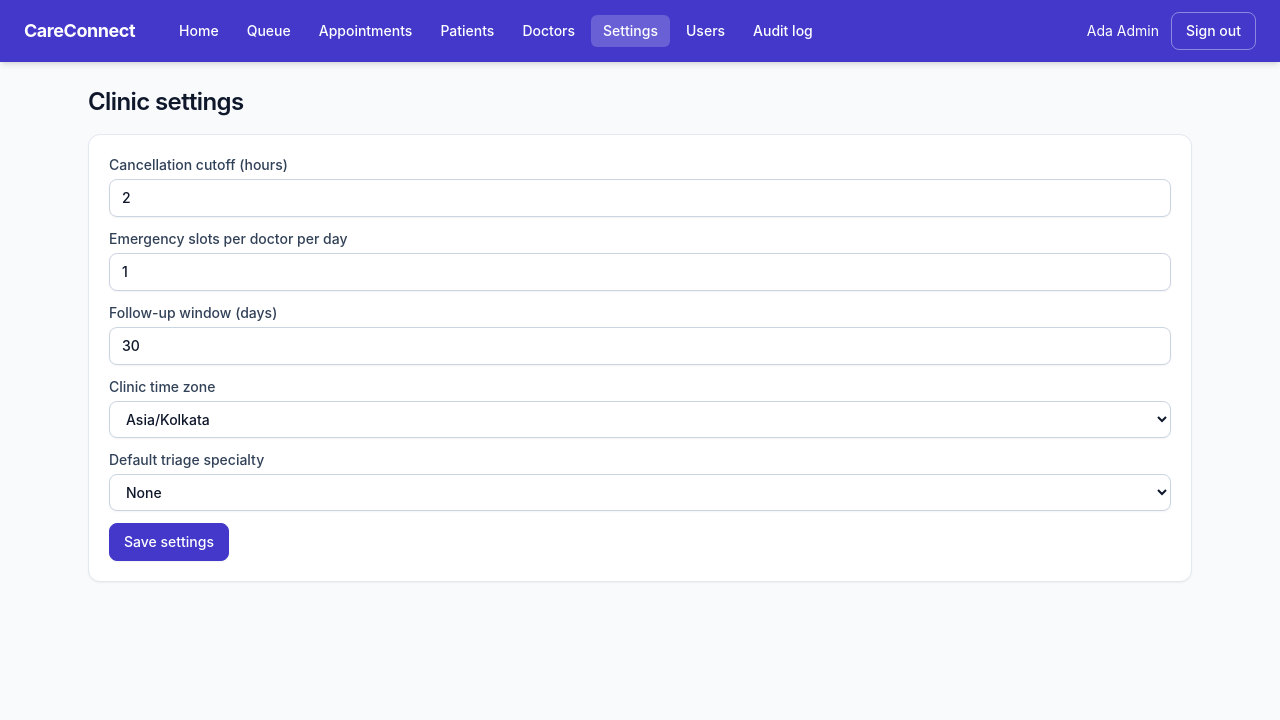
Test: Clinic settings page › front-desk saves only the changed fields
Replace the text in the number field labelled "Follow-up window (days)" with "14" at (640, 346), box x1=109 y1=327 x2=1171 y2=365
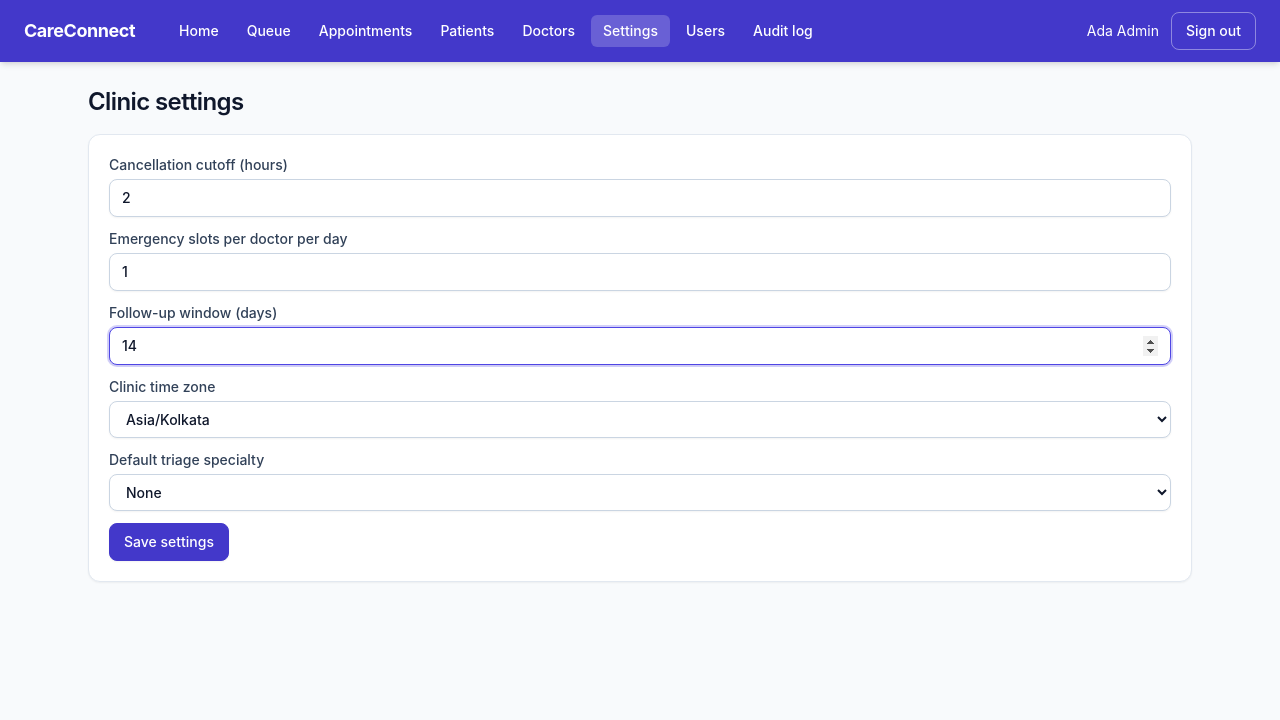
Click the button "Save settings" at (169, 542), box x1=109 y1=523 x2=229 y2=561
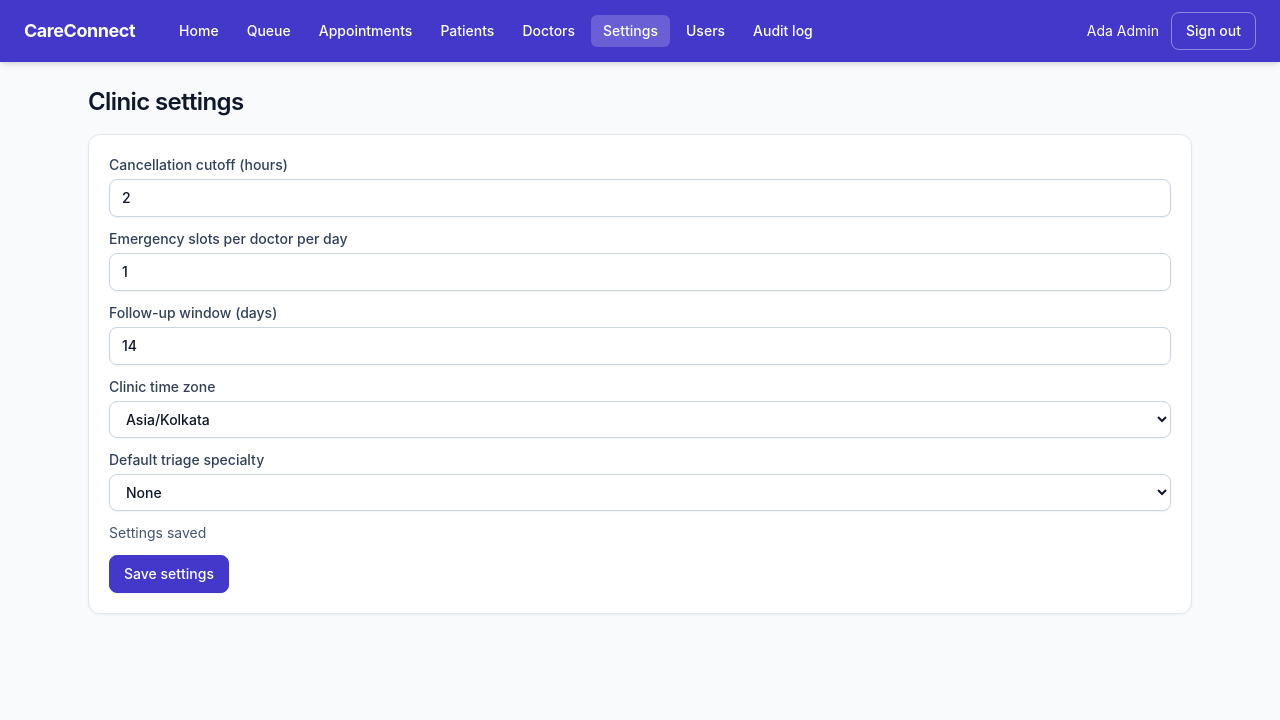
Expected: the text "Settings saved" is shown, x1=109 y1=524 x2=206 y2=541
